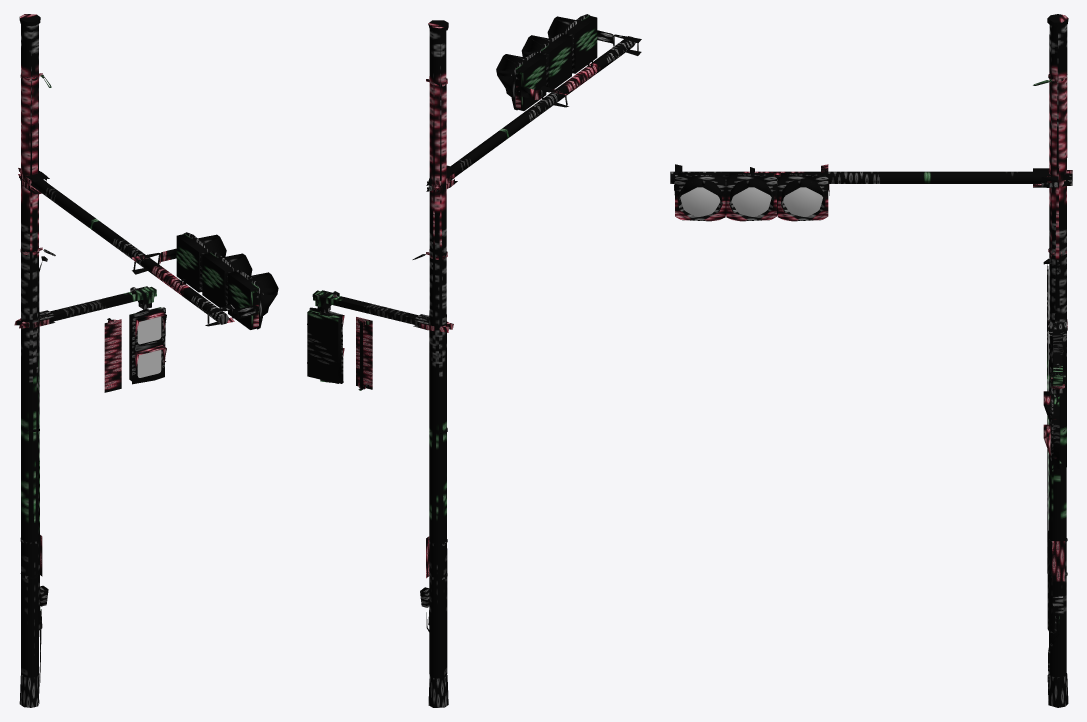
File: traffic_light-1_lod2.FBX
3 renders of one model, left to right at view 1: azimuth 30°, elevation 25°; view 2: azimuth 150°, elevation 25°; view 3: azimuth 270°, elevation 25°, orthographic.
Parts seen in each view (by area): view 1: traffic_light, glass; view 2: traffic_light; view 3: traffic_light, glass.
Part boxes in pixels (bbox=[...]): traffic_light: bbox=[14, 14, 278, 707]; glass: bbox=[137, 316, 161, 377]; traffic_light: bbox=[307, 14, 641, 707]; traffic_light: bbox=[670, 14, 1072, 707]; glass: bbox=[680, 187, 822, 216].
Bounding box in the file's own units: 62.7 × 279 × 149.
